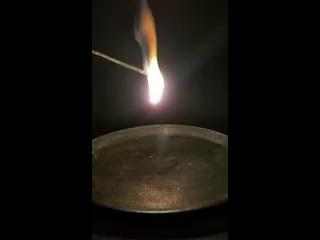Fire: (141, 15, 167, 106)
